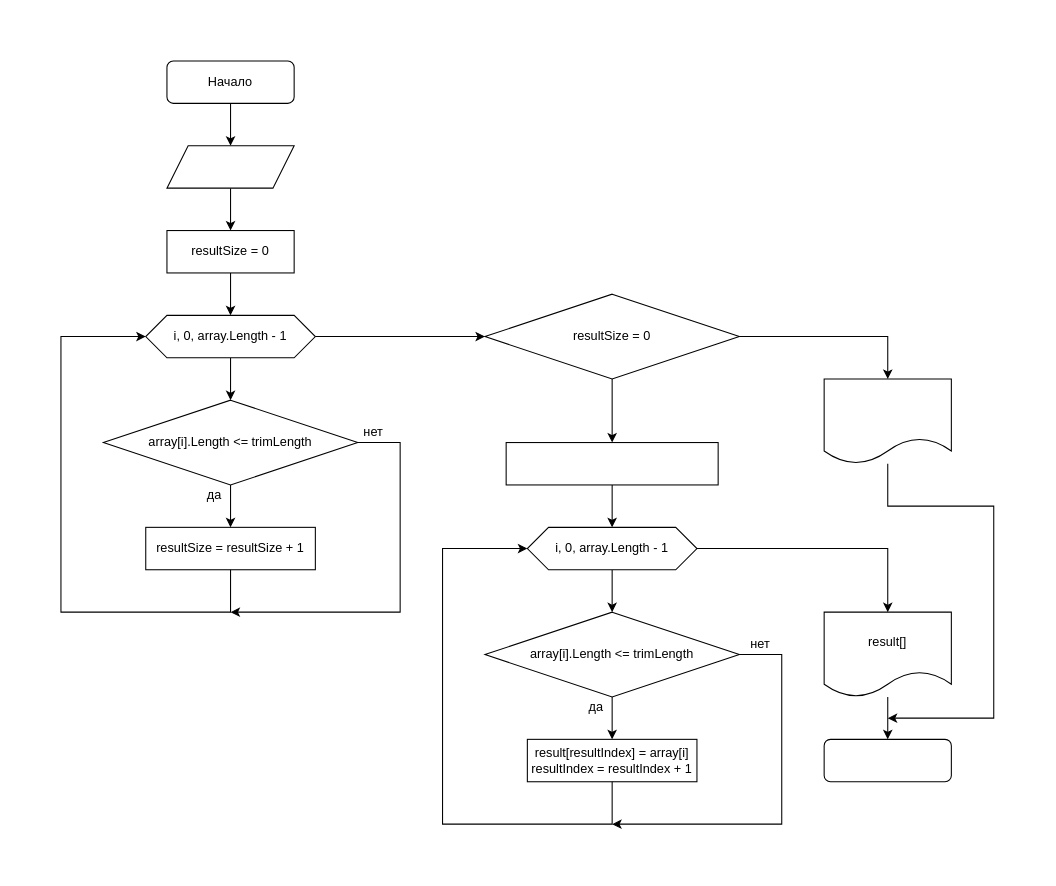
Image size: 1056x886. Some labels were removed from this diagram. The centre of each missing label's shape, as x and y in pixels:
array[] trimLength: (x=230, y=166)
new string[]{""}: (x=887, y=421)
sring[] result = new string[resultSize] resultIndex = 0: (x=611, y=463)
Конец: (x=887, y=760)
